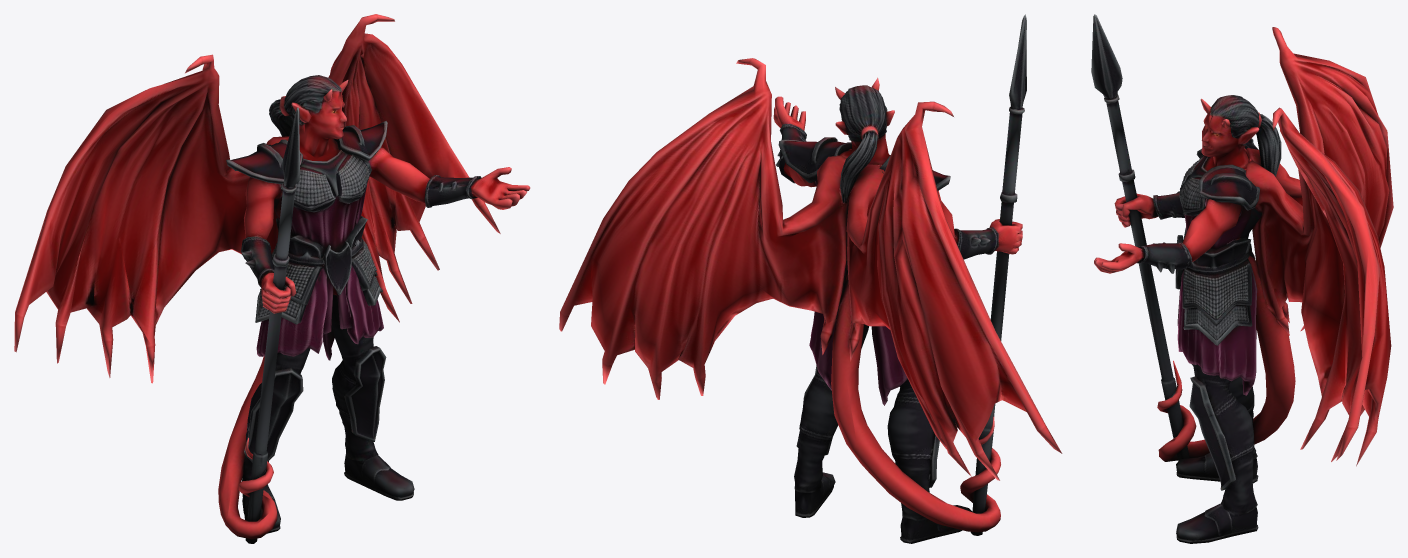
File: Cambion.glb
3 views of the same model, side by side, from view 1: azimuth 30°, elevation 25°; view 2: azimuth 150°, elevation 25°; view 3: azimuth 270°, elevation 25° (orthographic). The views are drawn at different scales.
Visible parts, largest first — view 1: wing_low.001, body_low.001, spear_low.001; view 2: wing_low.001, body_low.001, spear_low.001; view 3: body_low.001, wing_low.001, spear_low.001.
Part boxes in pixels (<box>): wing_low.001: <box>14,14,500,383</box>; body_low.001: <box>218,75,530,539</box>; spear_low.001: <box>245,107,300,543</box>; wing_low.001: <box>559,58,1062,480</box>; body_low.001: <box>773,77,1022,543</box>; spear_low.001: <box>970,14,1026,535</box>; body_low.001: <box>1094,95,1295,543</box>; wing_low.001: <box>1245,27,1393,466</box>; spear_low.001: <box>1091,14,1189,460</box>.
Size of the model in its own units: 6.21 by 5.73 by 3.41.
Materials: 1 (1 with a texture image).
